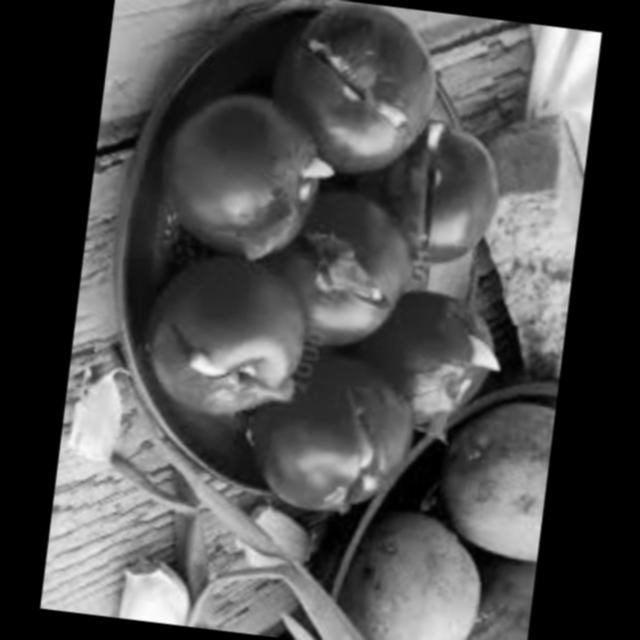garlic: (57, 358, 139, 476), (108, 541, 204, 627), (236, 499, 318, 580)
potato: (337, 368, 558, 640)
tomato: (128, 249, 324, 440), (146, 80, 336, 262), (246, 341, 428, 528), (254, 0, 440, 176), (343, 96, 515, 282), (253, 182, 412, 352), (364, 279, 509, 453)
